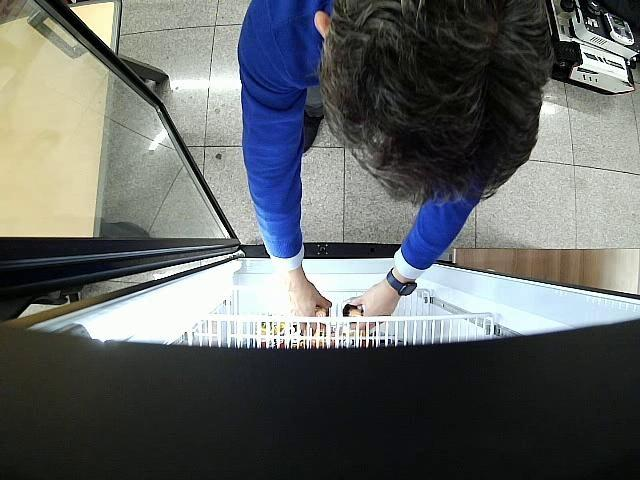17_vita500: (343, 304, 363, 317), (315, 306, 329, 317)
